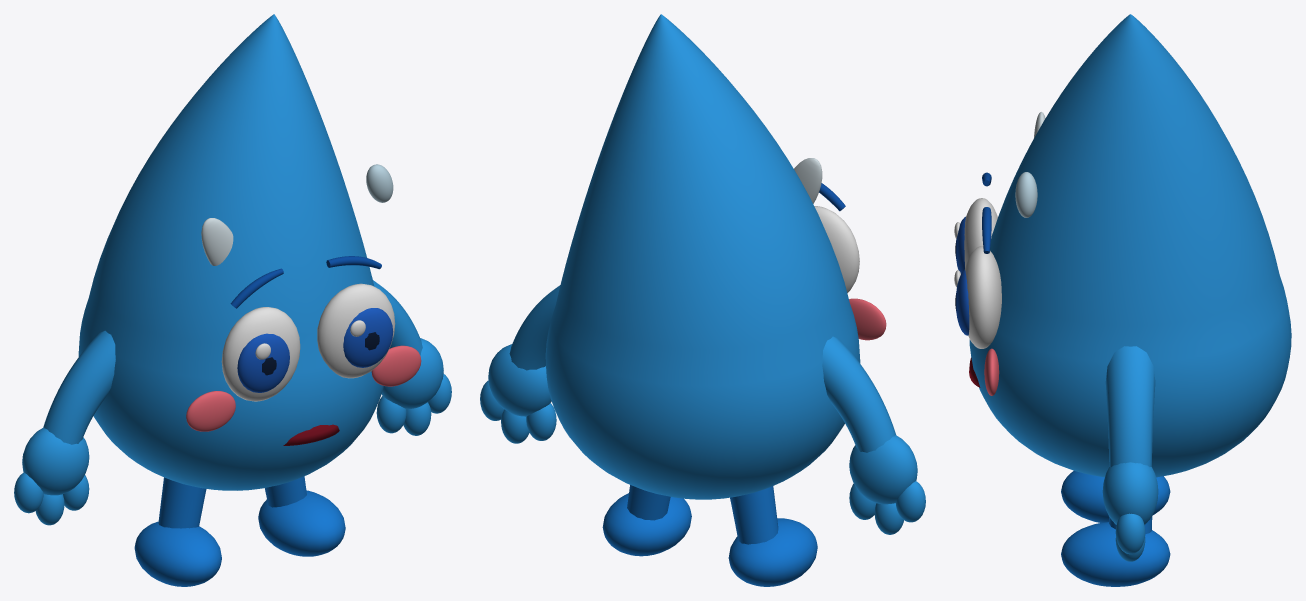
The model's file is drop-sad.glb.
The picture shows the model from 3 angles, left to right: view 1: azimuth 30°, elevation 25°; view 2: azimuth 150°, elevation 25°; view 3: azimuth 270°, elevation 25°; orthographic projection. The views are drawn at different scales.
Parts seen in each view (by area): view 1: drop_body, arm_R, arm_L; view 2: drop_body, arm_R, arm_L; view 3: drop_body, arm_L.
Part boxes in pixels (x1=…): drop_body: x1=78, y1=14, x2=421, y2=586; arm_R: x1=14, y1=330, x2=115, y2=525; arm_L: x1=373, y1=280, x2=451, y2=435; drop_body: x1=545, y1=14, x2=886, y2=586; arm_R: x1=822, y1=336, x2=925, y2=534; arm_L: x1=480, y1=285, x2=560, y2=443; drop_body: x1=954, y1=14, x2=1291, y2=586; arm_L: x1=1102, y1=346, x2=1158, y2=561.
Bounding box in the file's own units: 2.11 × 2.48 × 1.36.
